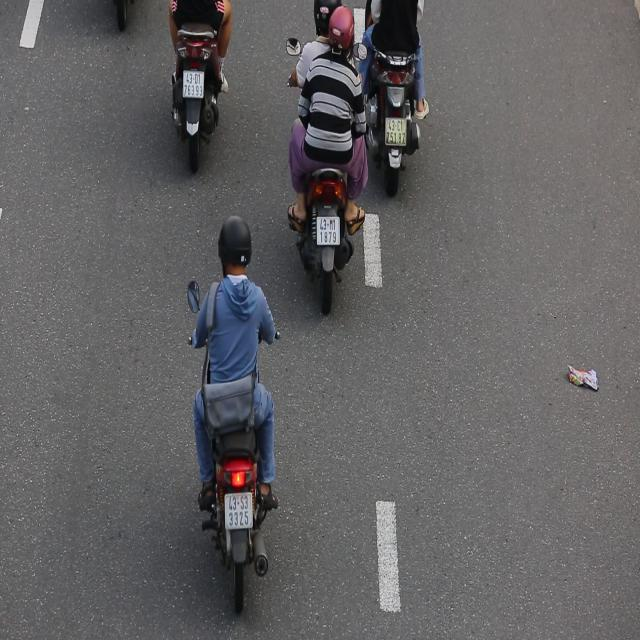motorbike: (186, 208, 286, 624), (283, 0, 374, 350)
